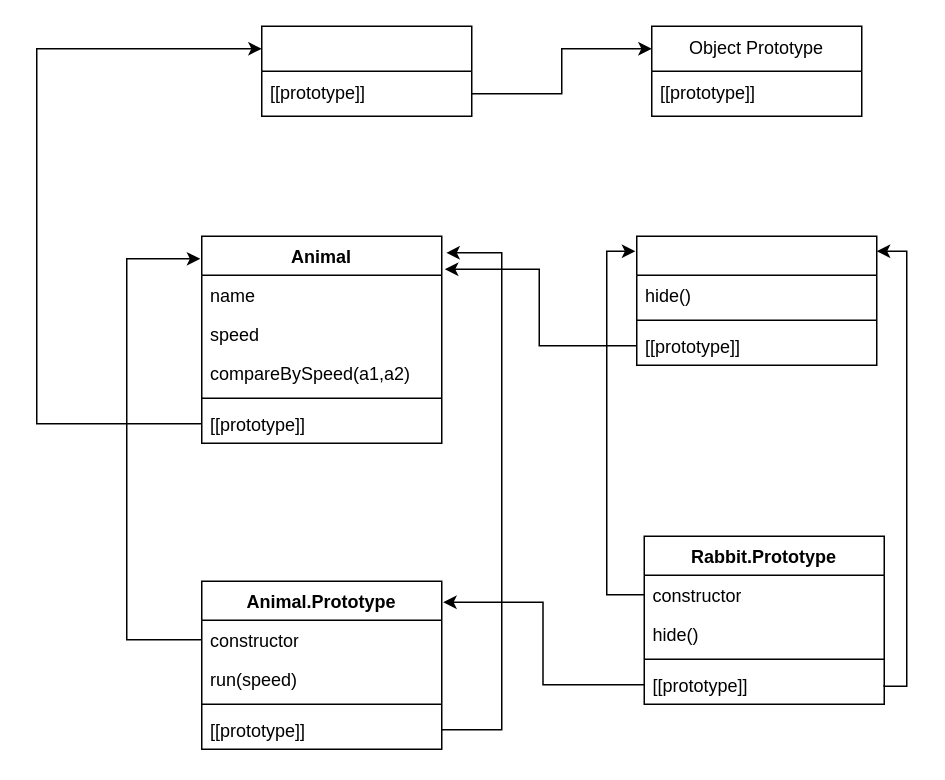
Some shapes in this 945 by 780 pixel diagram are drawn without their labels. The shapes that lost their labels are listed below. From the top down, each one's box as (x1, y1, x2, y2) in pixels, then its label:
(260, 25, 472, 116): Function Prototype
(635, 235, 877, 365): Rabbit
